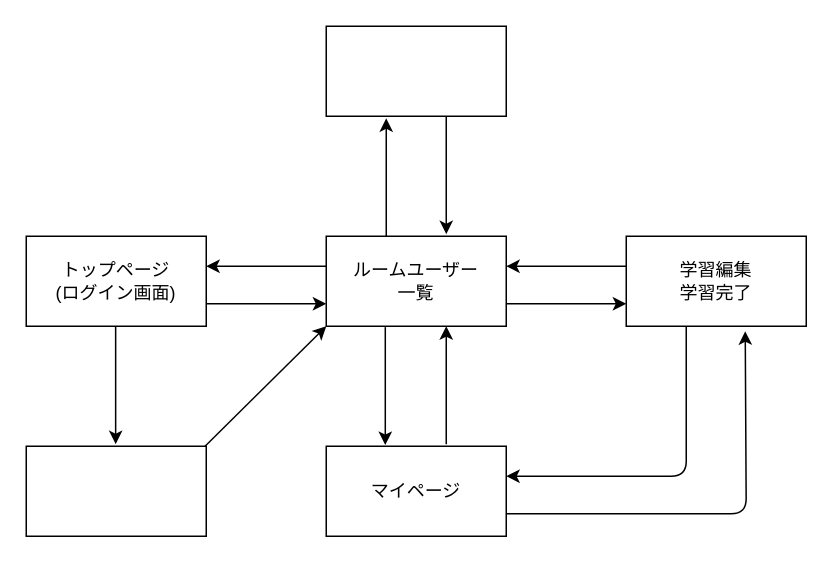
This 833x563 diagram has some shape labels left out. The box of each missing label's shape, as (x1, y1, x2, y2) in pixels:
ユーザー新規登録: (25, 445, 206, 536)
学習新規登録: (325, 25, 506, 116)
